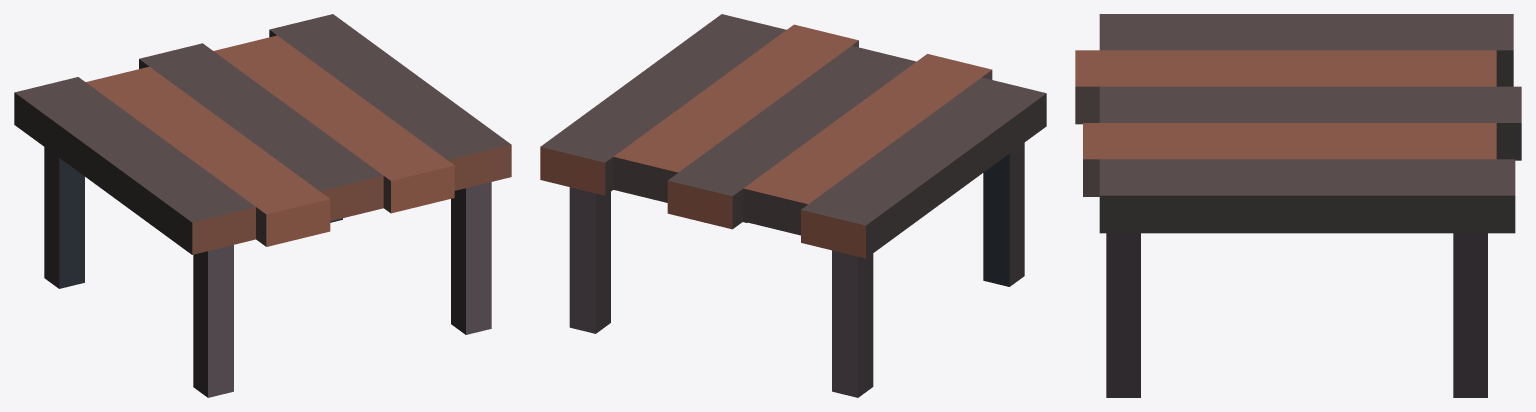
The model's file is TB_D_Bd_Tower_Roof_B.FBX.
The picture shows the model from 3 angles, left to right: view 1: azimuth 30°, elevation 25°; view 2: azimuth 150°, elevation 25°; view 3: azimuth 270°, elevation 25°; orthographic projection. The views are drawn at different scales.
Visible parts, largest first — view 1: TB_D_Bd_Tower_Roof_B; view 2: TB_D_Bd_Tower_Roof_B; view 3: TB_D_Bd_Tower_Roof_B.
Part boxes in pixels (<box>): TB_D_Bd_Tower_Roof_B: <box>14,14,511,397</box>; TB_D_Bd_Tower_Roof_B: <box>540,14,1046,397</box>; TB_D_Bd_Tower_Roof_B: <box>1075,14,1521,397</box>.
Bounding box in the file's own units: 2.68 × 1.46 × 2.79.
